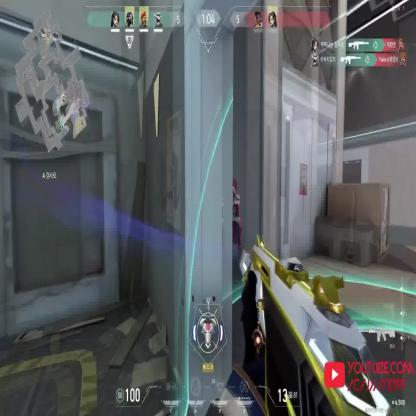enemy: (220, 172, 243, 260)
enemy_head: (229, 176, 236, 197)
